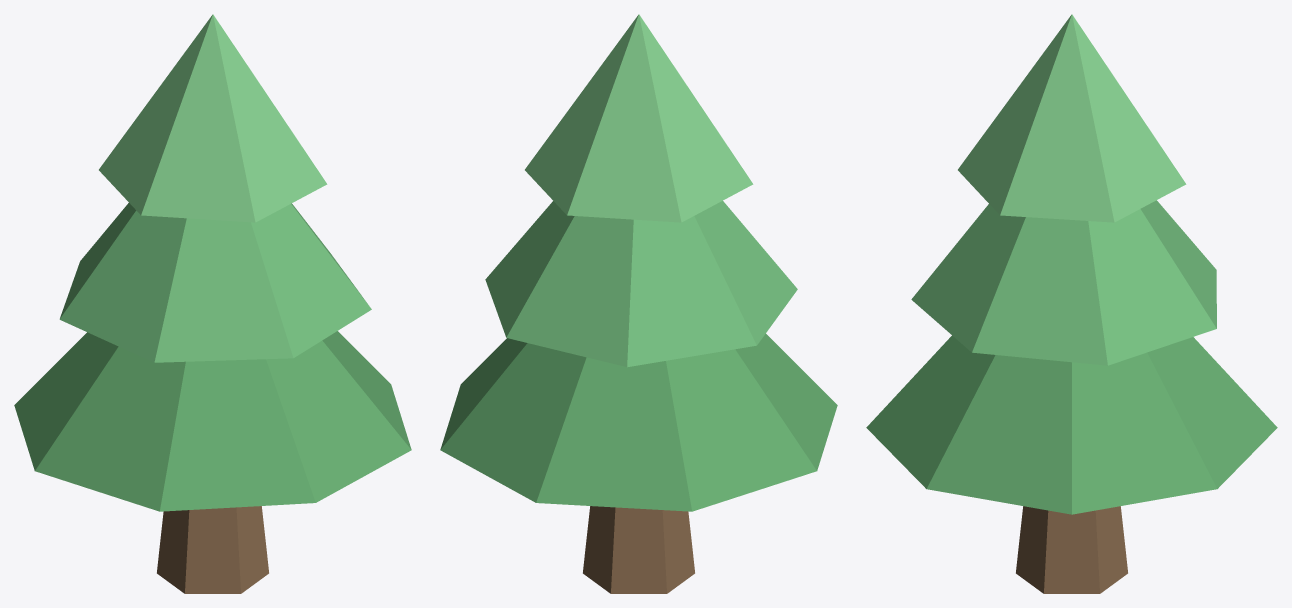
Rendered from LowPoly_Tree.fbx.
3 views of the same model, side by side, from view 1: azimuth 30°, elevation 25°; view 2: azimuth 150°, elevation 25°; view 3: azimuth 270°, elevation 25° (orthographic).
Visible parts, largest first — view 1: LowPoly_Tree; view 2: LowPoly_Tree; view 3: LowPoly_Tree.
Boxes of the visible parts, <box> form: LowPoly_Tree: <box>14,14,411,593</box>; LowPoly_Tree: <box>440,14,837,593</box>; LowPoly_Tree: <box>866,14,1277,593</box>.
Size of the model in its own units: 320 by 480 by 320.
